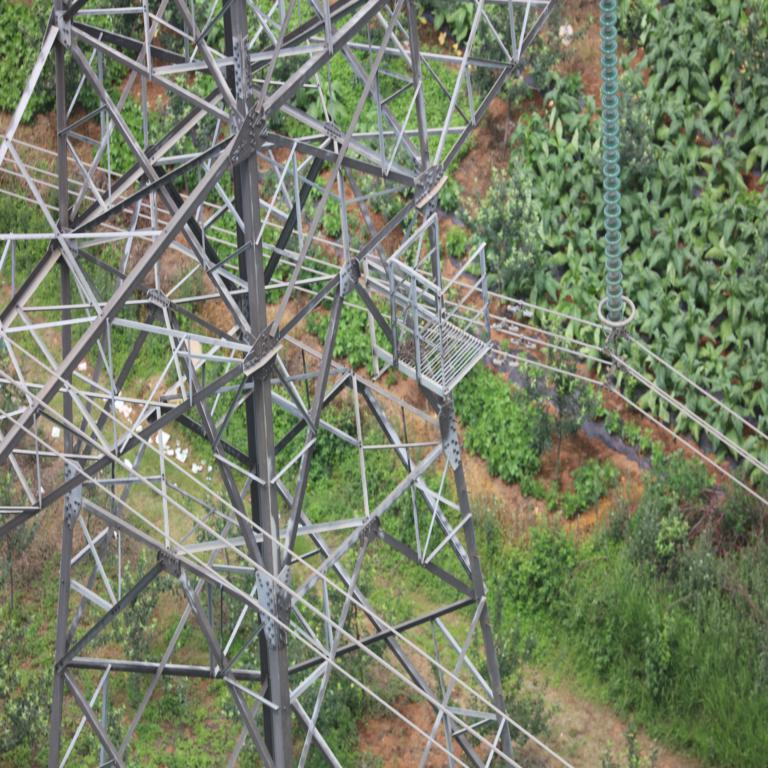nest: (395, 335, 422, 365)
